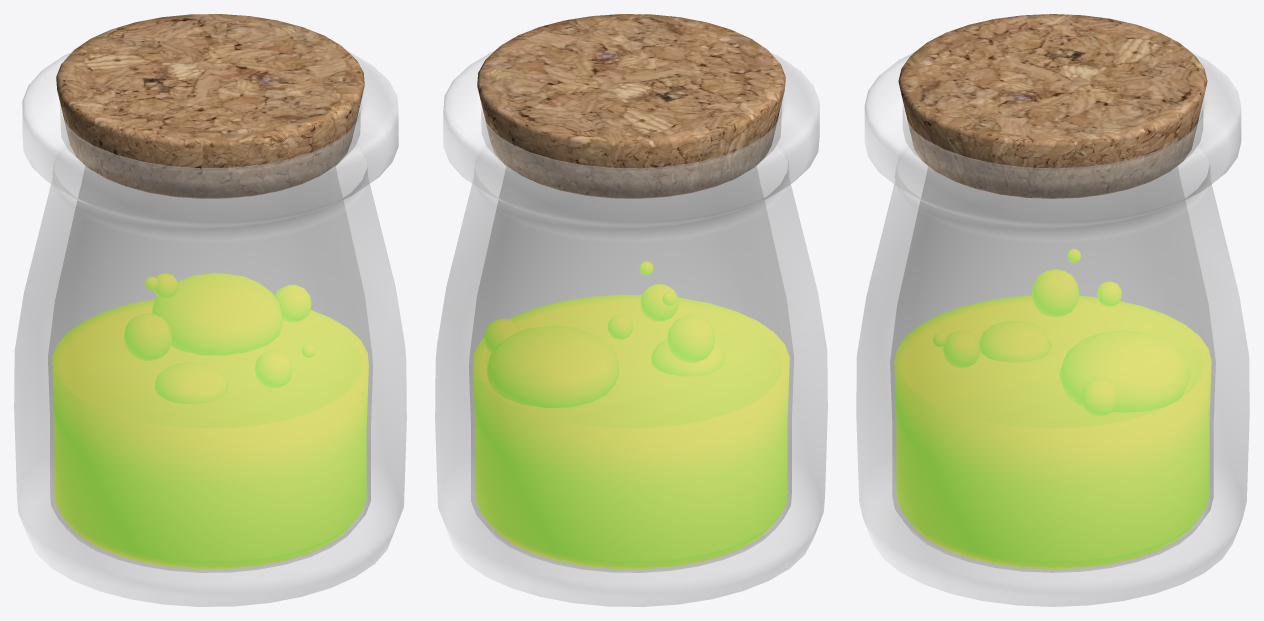
The model's file is glass-bottle.glb.
3 renders of one model, left to right at view 1: azimuth 30°, elevation 25°; view 2: azimuth 150°, elevation 25°; view 3: azimuth 270°, elevation 25°, orthographic.
Visible parts, largest first — view 1: Bottle Exterior_1, Bottle Interior_5, Liquid_4, Cork_3, Cube.001_7, Cube.004_10, Cube_6, Cube.006_12, Cube.003_9; view 2: Bottle Exterior_1, Bottle Interior_5, Liquid_4, Cork_3, Cube.001_7, Cube_6, Cube.004_10, Cube.006_12, Cube.003_9; view 3: Bottle Exterior_1, Bottle Interior_5, Liquid_4, Cork_3, Cube.001_7, Cube.004_10, Cube_6, Cube.003_9, Cube.006_12.
Part boxes in pixels (x1,y1,x2,y2): Bottle Exterior_1: [14, 51, 406, 606]; Bottle Interior_5: [48, 106, 372, 572]; Liquid_4: [52, 299, 368, 569]; Cork_3: [56, 14, 364, 198]; Cube.001_7: [151, 273, 283, 355]; Cube.004_10: [154, 362, 228, 404]; Cube_6: [124, 313, 171, 361]; Cube.006_12: [254, 350, 292, 388]; Cube.003_9: [274, 284, 311, 322]; Bottle Exterior_1: [435, 51, 827, 606]; Bottle Interior_5: [469, 106, 793, 572]; Liquid_4: [473, 294, 789, 569]; Cork_3: [477, 14, 785, 198]; Cube.001_7: [486, 325, 619, 407]; Cube_6: [667, 315, 715, 362]; Cube.004_10: [651, 339, 724, 376]; Cube.006_12: [640, 284, 678, 321]; Cube.003_9: [484, 318, 520, 352]; Bottle Exterior_1: [856, 52, 1249, 606]; Bottle Interior_5: [890, 106, 1215, 572]; Liquid_4: [894, 295, 1211, 569]; Cork_3: [898, 14, 1207, 198]; Cube.001_7: [1059, 330, 1190, 412]; Cube.004_10: [979, 320, 1051, 362]; Cube_6: [1031, 269, 1079, 317]; Cube.003_9: [1080, 378, 1118, 416]; Cube.006_12: [943, 330, 980, 367].
Size of the model in its own units: 5.2 by 6.59 by 5.2.
4 materials, 1 textured.
